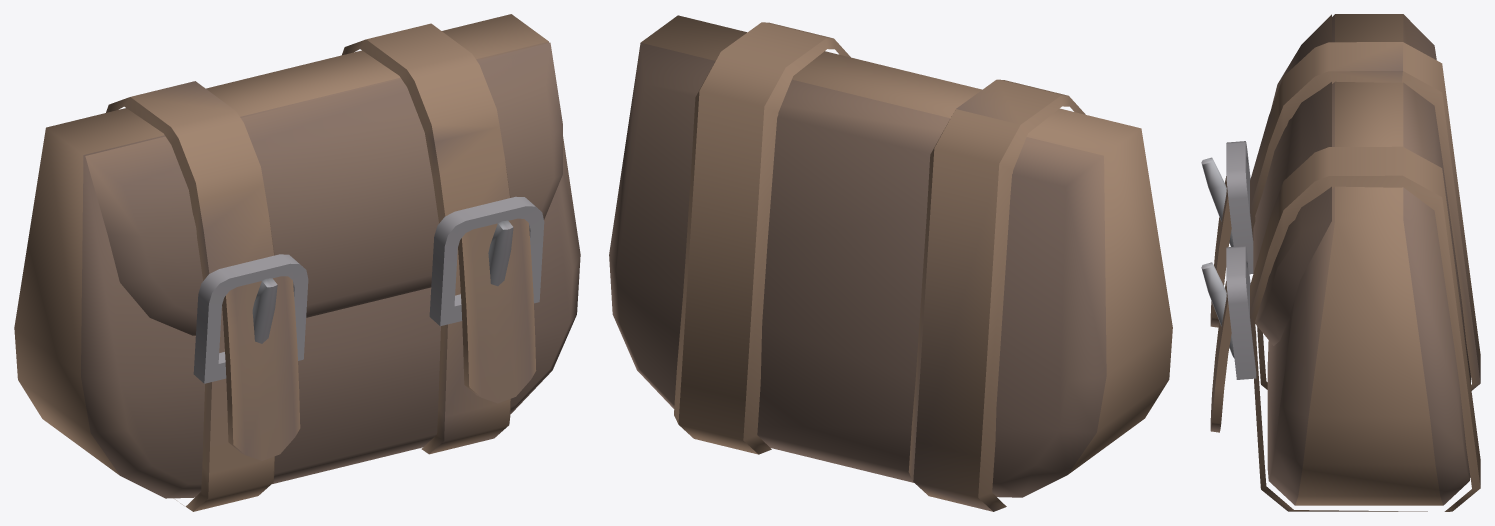
Rendered from Pouch_Large.glb.
3 views of the same model, side by side, from view 1: azimuth 30°, elevation 25°; view 2: azimuth 150°, elevation 25°; view 3: azimuth 270°, elevation 25° (orthographic). The views are drawn at different scales.
Visible parts, largest first — view 1: Pouch_Large, Pouch_Large_a65d95; view 2: Pouch_Large; view 3: Pouch_Large, Pouch_Large_a65d95.
Part boxes in pixels (x1,y1,x2,y2): Pouch_Large: [14, 14, 580, 511]; Pouch_Large_a65d95: [193, 196, 544, 383]; Pouch_Large: [609, 15, 1172, 511]; Pouch_Large: [1210, 14, 1480, 511]; Pouch_Large_a65d95: [1201, 141, 1256, 379].
Size of the model in its own units: 0.2255 by 0.1591 by 0.1198.
